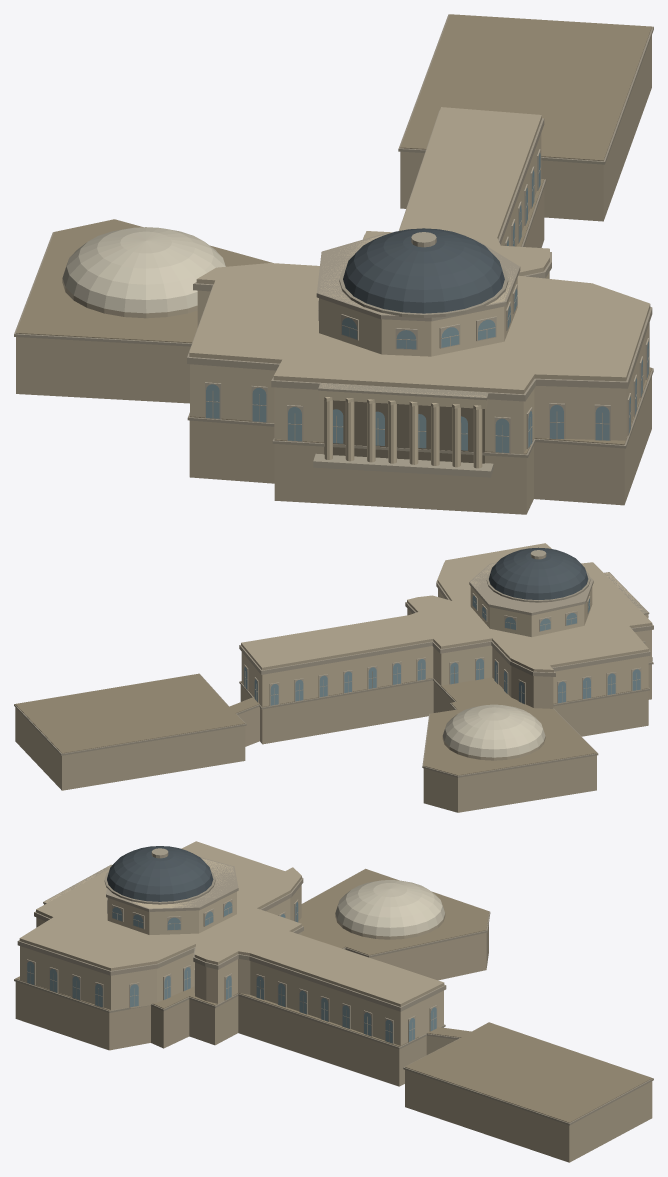
The model's file is science-museum-of-virginia.glb.
3 renders of one model, top to bottom at view 1: azimuth 30°, elevation 25°; view 2: azimuth 150°, elevation 25°; view 3: azimuth 270°, elevation 25°, orthographic. The views are drawn at different scales.
Visible parts, largest first — view 1: wings; view 2: wings; view 3: wings.
Boxes of the visible parts, <box> form: wings: <box>14,14,653,514</box>; wings: <box>14,543,653,812</box>; wings: <box>14,841,653,1162</box>.
Bounding box in the file's own units: 159 × 40 × 168.
